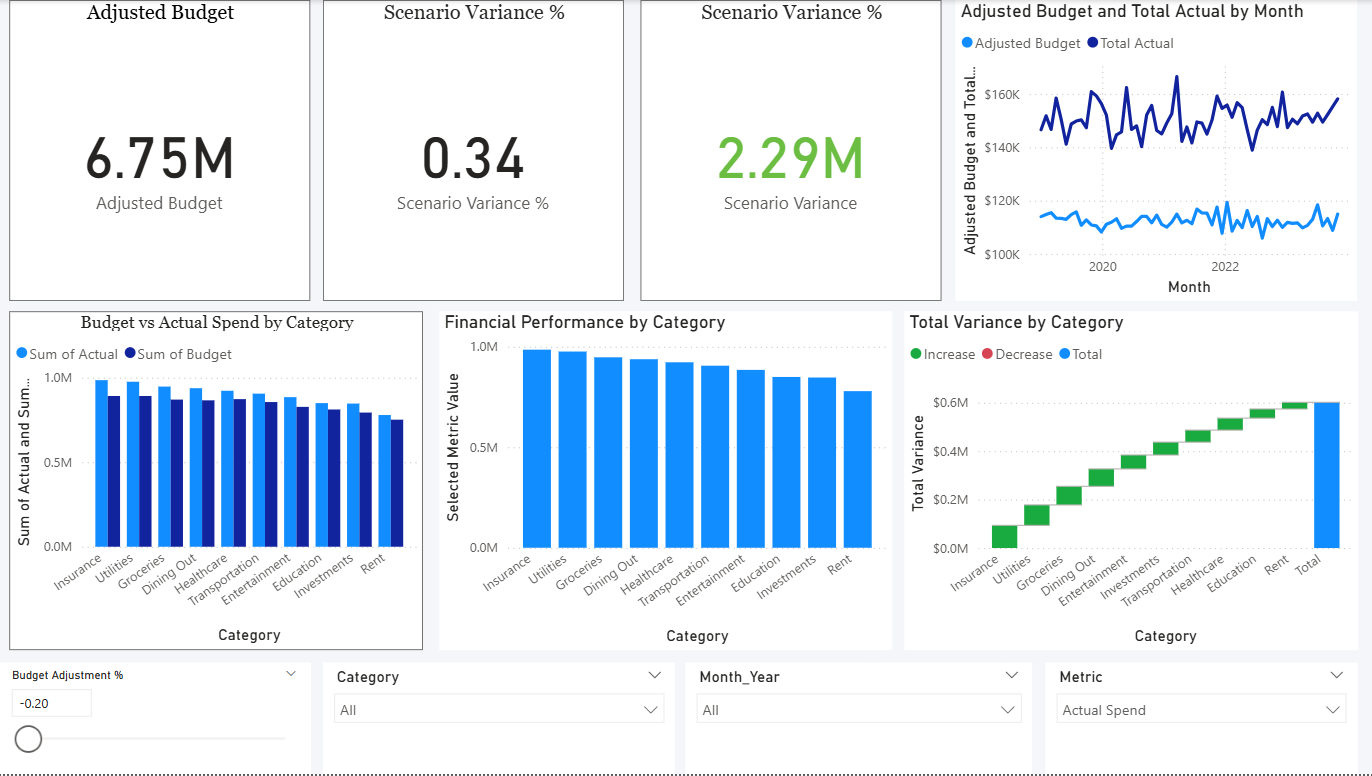

The dashboard page shown, as its layout file describes it:
{"tool":"powerbi","page":{"name":"Cost & Performance","canvas":[1280,720],"ordinal":2},"visuals":[{"type":"card","title":"Adjusted Budget","fields":{"Values":["Budget Adjustment %.Adjusted Budget"]},"box":[10,0,280,280],"z":0},{"type":"slicer","fields":{"Values":["Budget Adjustment %.Budget Adjustment %"]},"box":[0,616.2,290,103.8],"z":1000},{"type":"card","title":"Scenario Variance %","fields":{"Values":["Budget Adjustment %.Scenario Variance %"]},"box":[302.5,0,280,280],"z":2000},{"type":"card","title":"Scenario Variance %","fields":{"Values":["Budget Adjustment %.Scenario Variance"]},"box":[597.5,0,280,280],"z":3000},{"type":"clusteredColumnChart","title":"Budget vs Actual Spend by Category","fields":{"Category":["Finance_Clean.Category"],"Y":["Sum(Finance_Clean.Actual)","Sum(Finance_Clean.Budget)"]},"box":[10,290,385,315],"z":4000},{"type":"waterfallChart","fields":{"Category":["Finance_Clean.Category"],"Y":["Finance_Clean.Total Variance"]},"box":[842.5,290,422.5,315],"z":5000},{"type":"slicer","fields":{"Values":["Month_Dim.Month_Year"]},"box":[640,616.2,322.5,103.8],"z":6000},{"type":"slicer","fields":{"Values":["Finance_Clean.Category"]},"box":[302.5,616.2,327.5,103.8],"z":7000},{"type":"lineChart","fields":{"Y":["Budget Adjustment %.Adjusted Budget","Finance_Clean.Total Actual"],"Category":["Finance_Clean.Month"]},"box":[891.2,0,373.8,280],"z":8000},{"type":"slicer","fields":{"Values":["Metric Selector.Metric"]},"box":[975,616.2,290,103.8],"z":9000},{"type":"clusteredColumnChart","title":"Financial Performance by Category","fields":{"Category":["Finance_Clean.Category"],"Y":["Budget Adjustment %.Selected Metric Value"]},"box":[410,290,421.2,315],"z":10000}]}

Visuals, with their boxes in screenshot pixels (x1, y1, x2, y2), scaled from the page's 1280x720 canvas onto the 1372x776 screenshot:
"Adjusted Budget" card: {"x1": 11, "y1": 0, "x2": 311, "y2": 302}
slicer - Budget Adjustment %.Budget Adjustment %: {"x1": 0, "y1": 664, "x2": 311, "y2": 775}
"Scenario Variance %" card: {"x1": 324, "y1": 0, "x2": 624, "y2": 302}
"Scenario Variance %" card: {"x1": 640, "y1": 0, "x2": 941, "y2": 302}
"Budget vs Actual Spend by Category" clusteredColumnChart: {"x1": 11, "y1": 313, "x2": 423, "y2": 652}
waterfallChart - Finance_Clean.Category x Finance_Clean.Total Variance: {"x1": 903, "y1": 313, "x2": 1356, "y2": 652}
slicer - Month_Dim.Month_Year: {"x1": 686, "y1": 664, "x2": 1032, "y2": 775}
slicer - Finance_Clean.Category: {"x1": 324, "y1": 664, "x2": 675, "y2": 775}
lineChart - Budget Adjustment %.Adjusted Budget x Finance_Clean.Total Actual: {"x1": 955, "y1": 0, "x2": 1356, "y2": 302}
slicer - Metric Selector.Metric: {"x1": 1045, "y1": 664, "x2": 1356, "y2": 775}
"Financial Performance by Category" clusteredColumnChart: {"x1": 439, "y1": 313, "x2": 891, "y2": 652}
